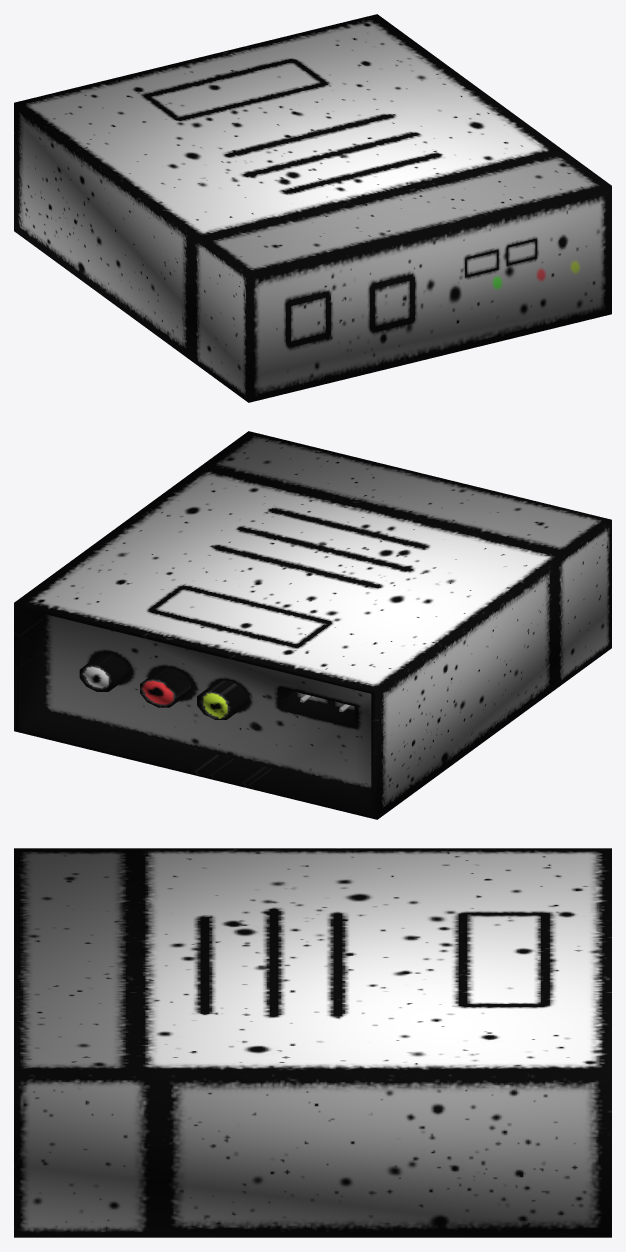
The model's file is 80s_console.obj.
The picture shows the model from 3 angles, top to bottom: view 1: azimuth 30°, elevation 25°; view 2: azimuth 150°, elevation 25°; view 3: azimuth 270°, elevation 25°; orthographic projection. The views are drawn at different scales.
Visible parts, largest first — view 1: Cube; view 2: Cube; view 3: Cube.
Boxes of the visible parts, <box> form: Cube: <box>14,14,611,402</box>; Cube: <box>14,431,611,819</box>; Cube: <box>14,848,611,1237</box>.
Bounding box in the file's own units: 1.79 × 0.6634 × 2.
